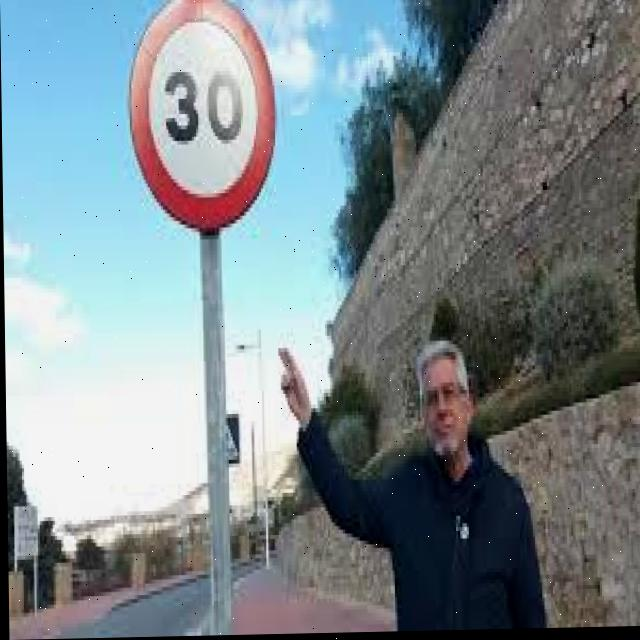Speed limit 30: (125, 1, 279, 239)
